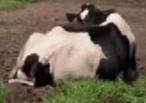cow: (9, 6, 137, 87)
